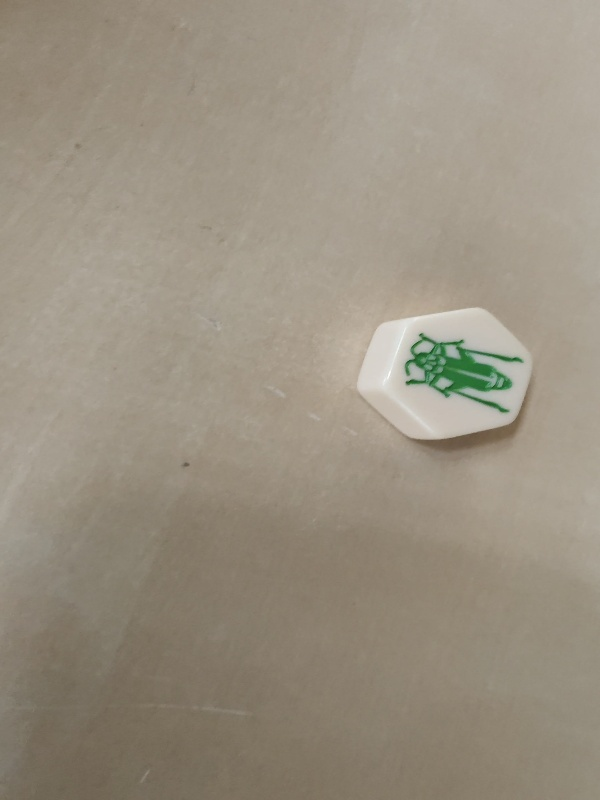white_grasshopper: (350, 304, 541, 448)
